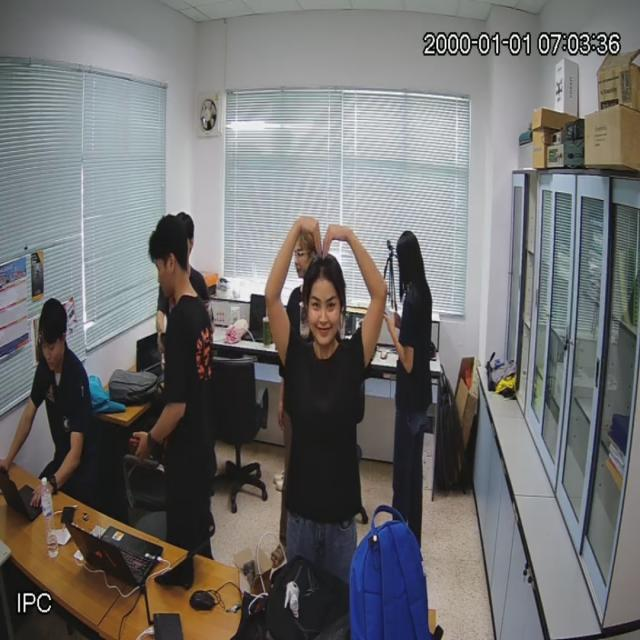normal: (271, 213, 378, 559), (135, 218, 215, 550), (22, 300, 103, 500), (387, 234, 435, 524)
